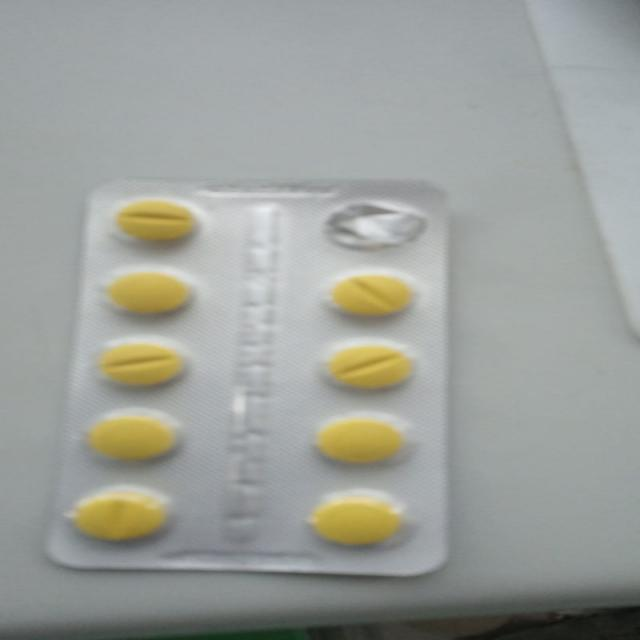Empty: (312, 196, 432, 254)
Pill: (288, 490, 416, 551), (64, 486, 184, 547), (304, 411, 416, 473), (308, 266, 428, 323), (310, 334, 416, 395), (98, 263, 204, 322), (72, 410, 184, 463), (88, 338, 194, 393), (106, 198, 208, 250)
